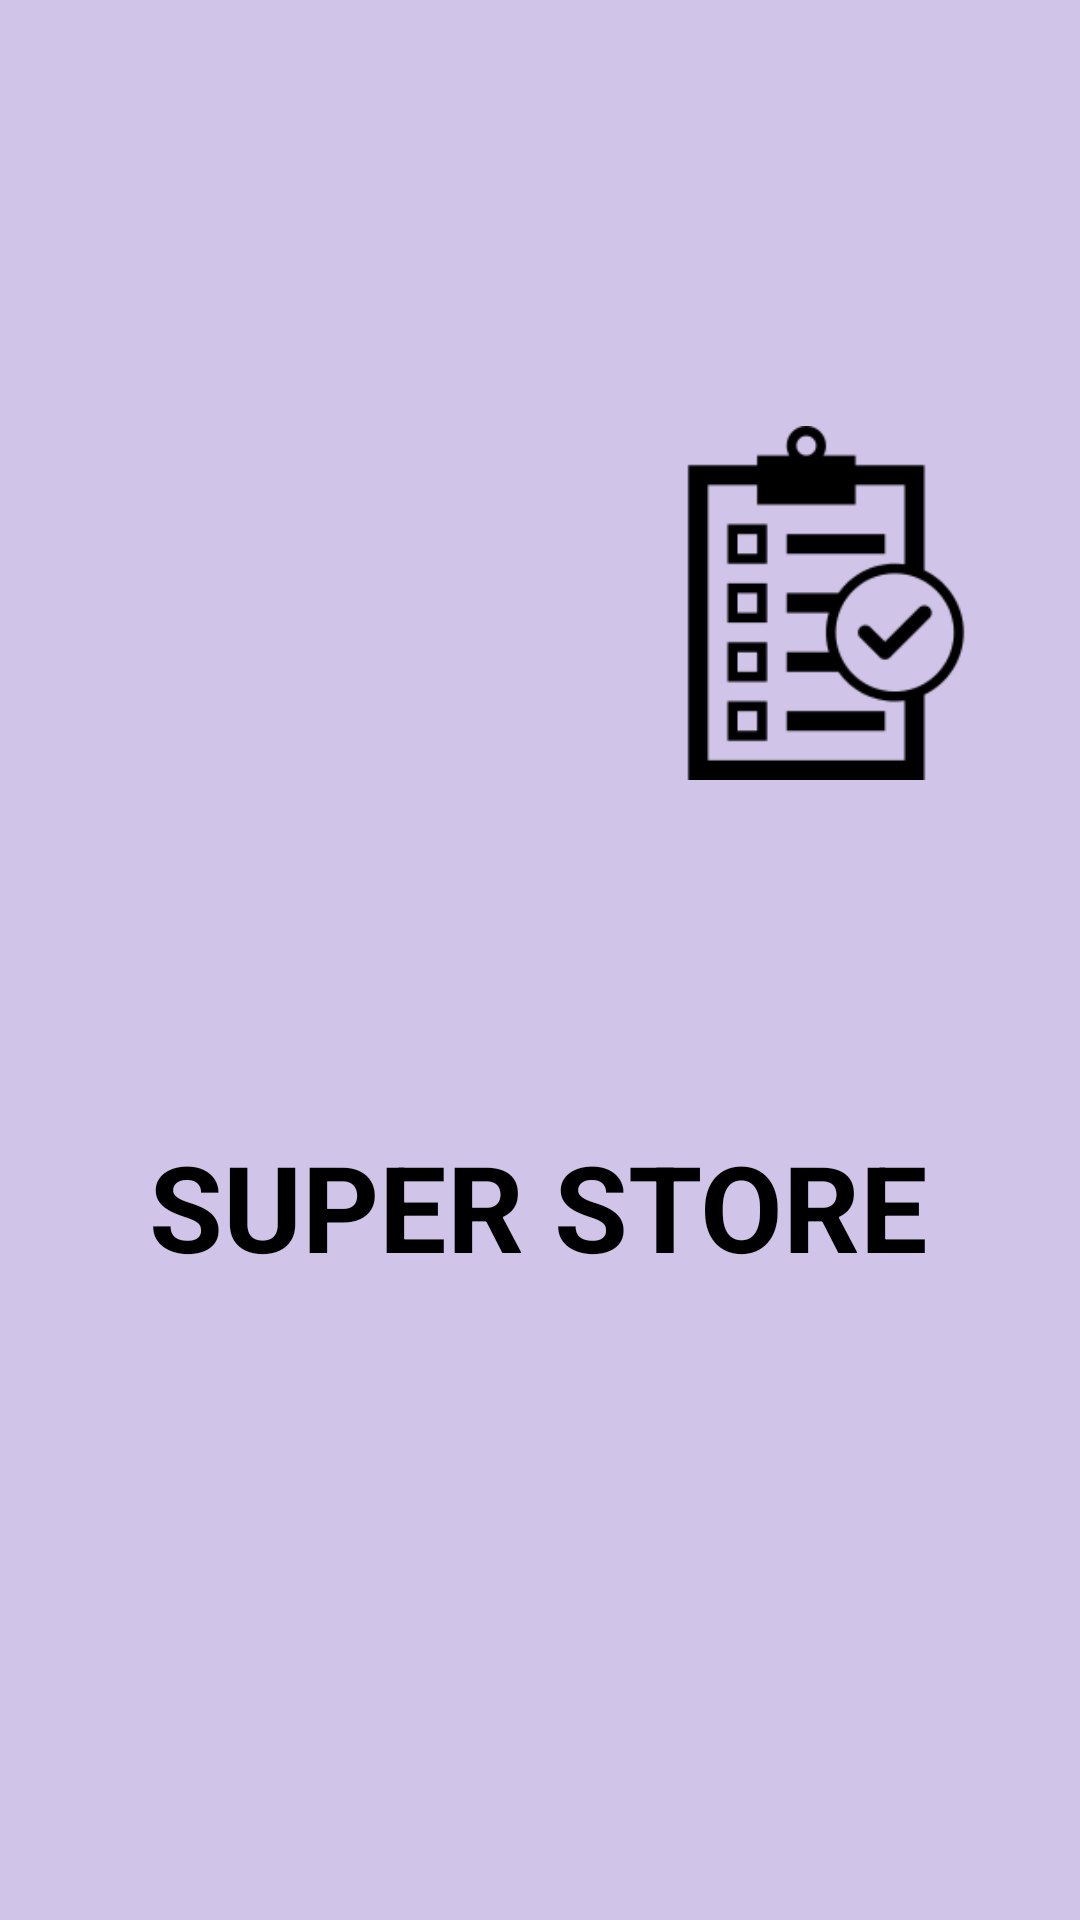

Point at icon controls on the screen. Image size 1080*1920, points as point (x, y).
checklist: point (826, 603)
